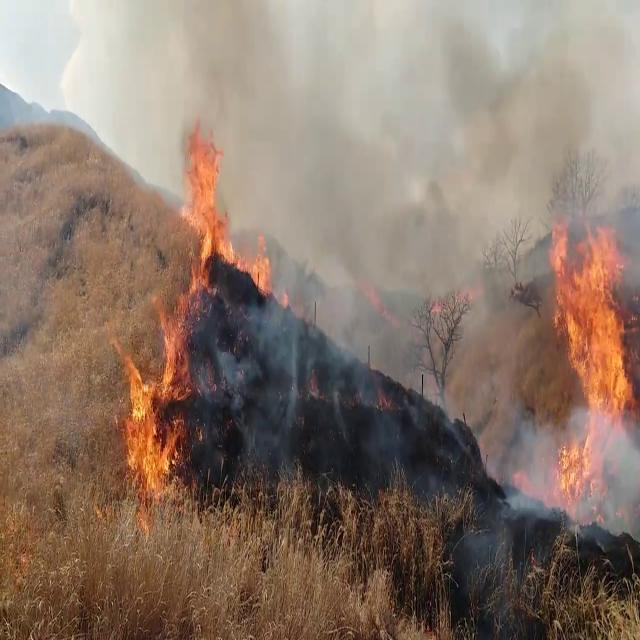Fire: (540, 202, 640, 432), (118, 286, 196, 492), (175, 109, 250, 285)
Smoke: (223, 0, 640, 529)
